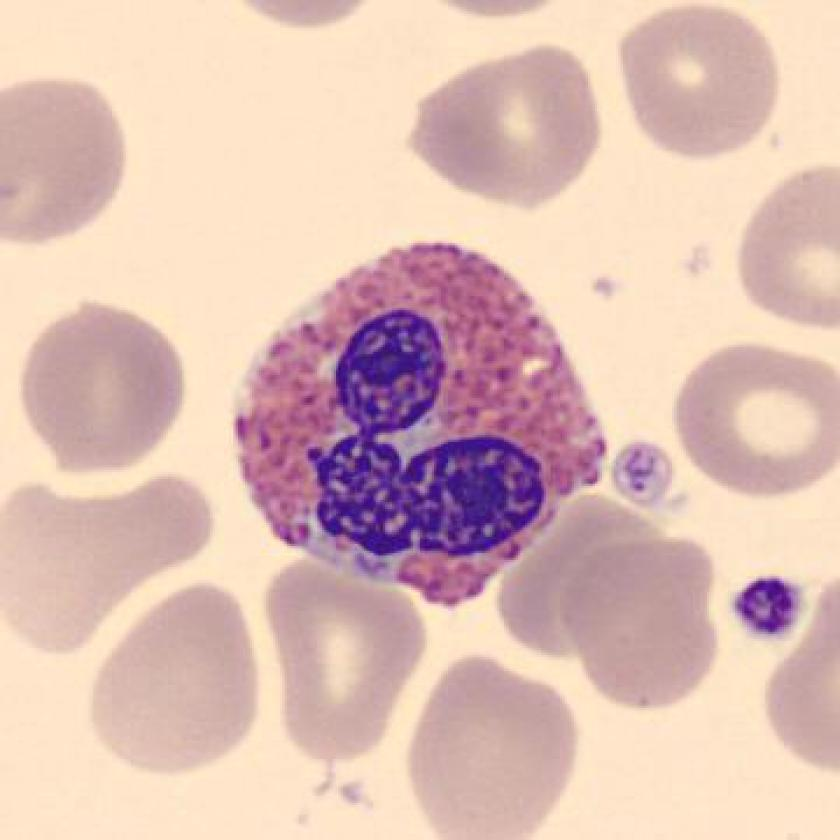eosinophil: (220, 230, 622, 612)
